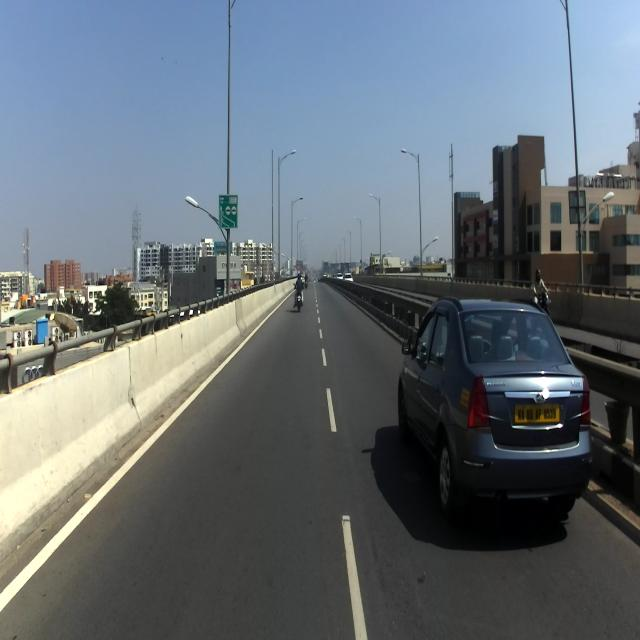car ahead at: (396, 293, 598, 531)
